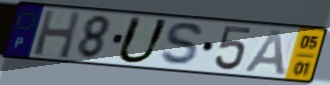5: (214, 25, 255, 72)
8: (76, 13, 112, 61)
A: (242, 28, 288, 78)
H: (31, 9, 83, 61)
S: (158, 20, 207, 69)
U: (114, 14, 172, 66)
